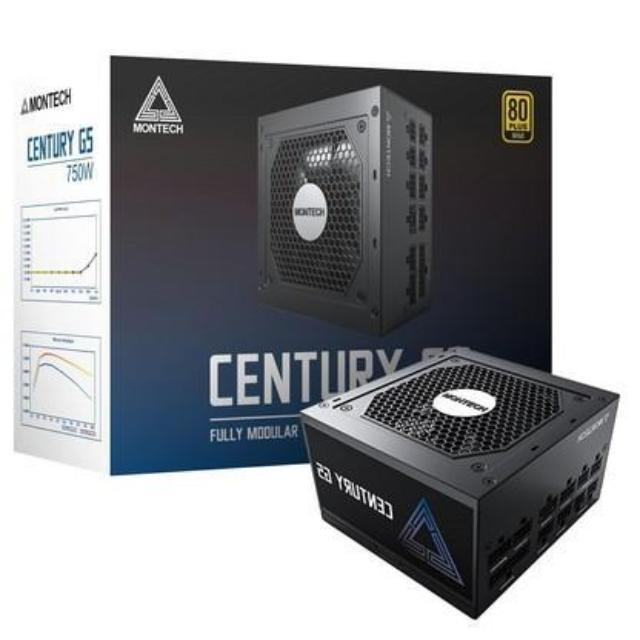PSU: (294, 338, 624, 622)
